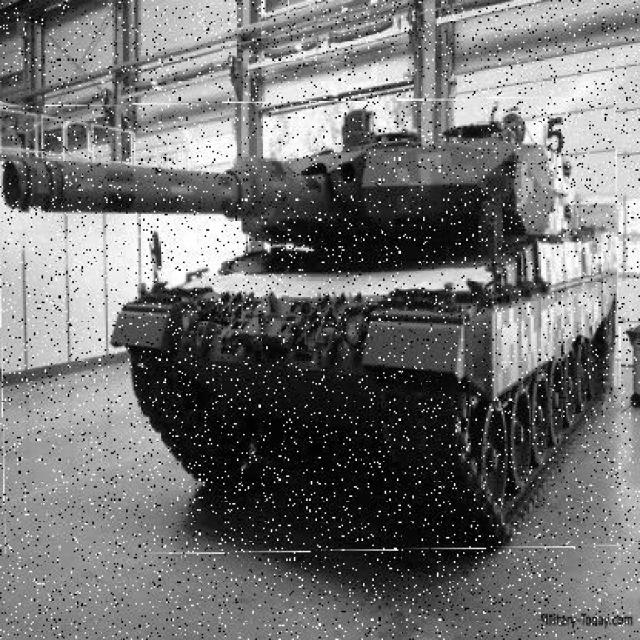Tank: (1, 99, 621, 555)
